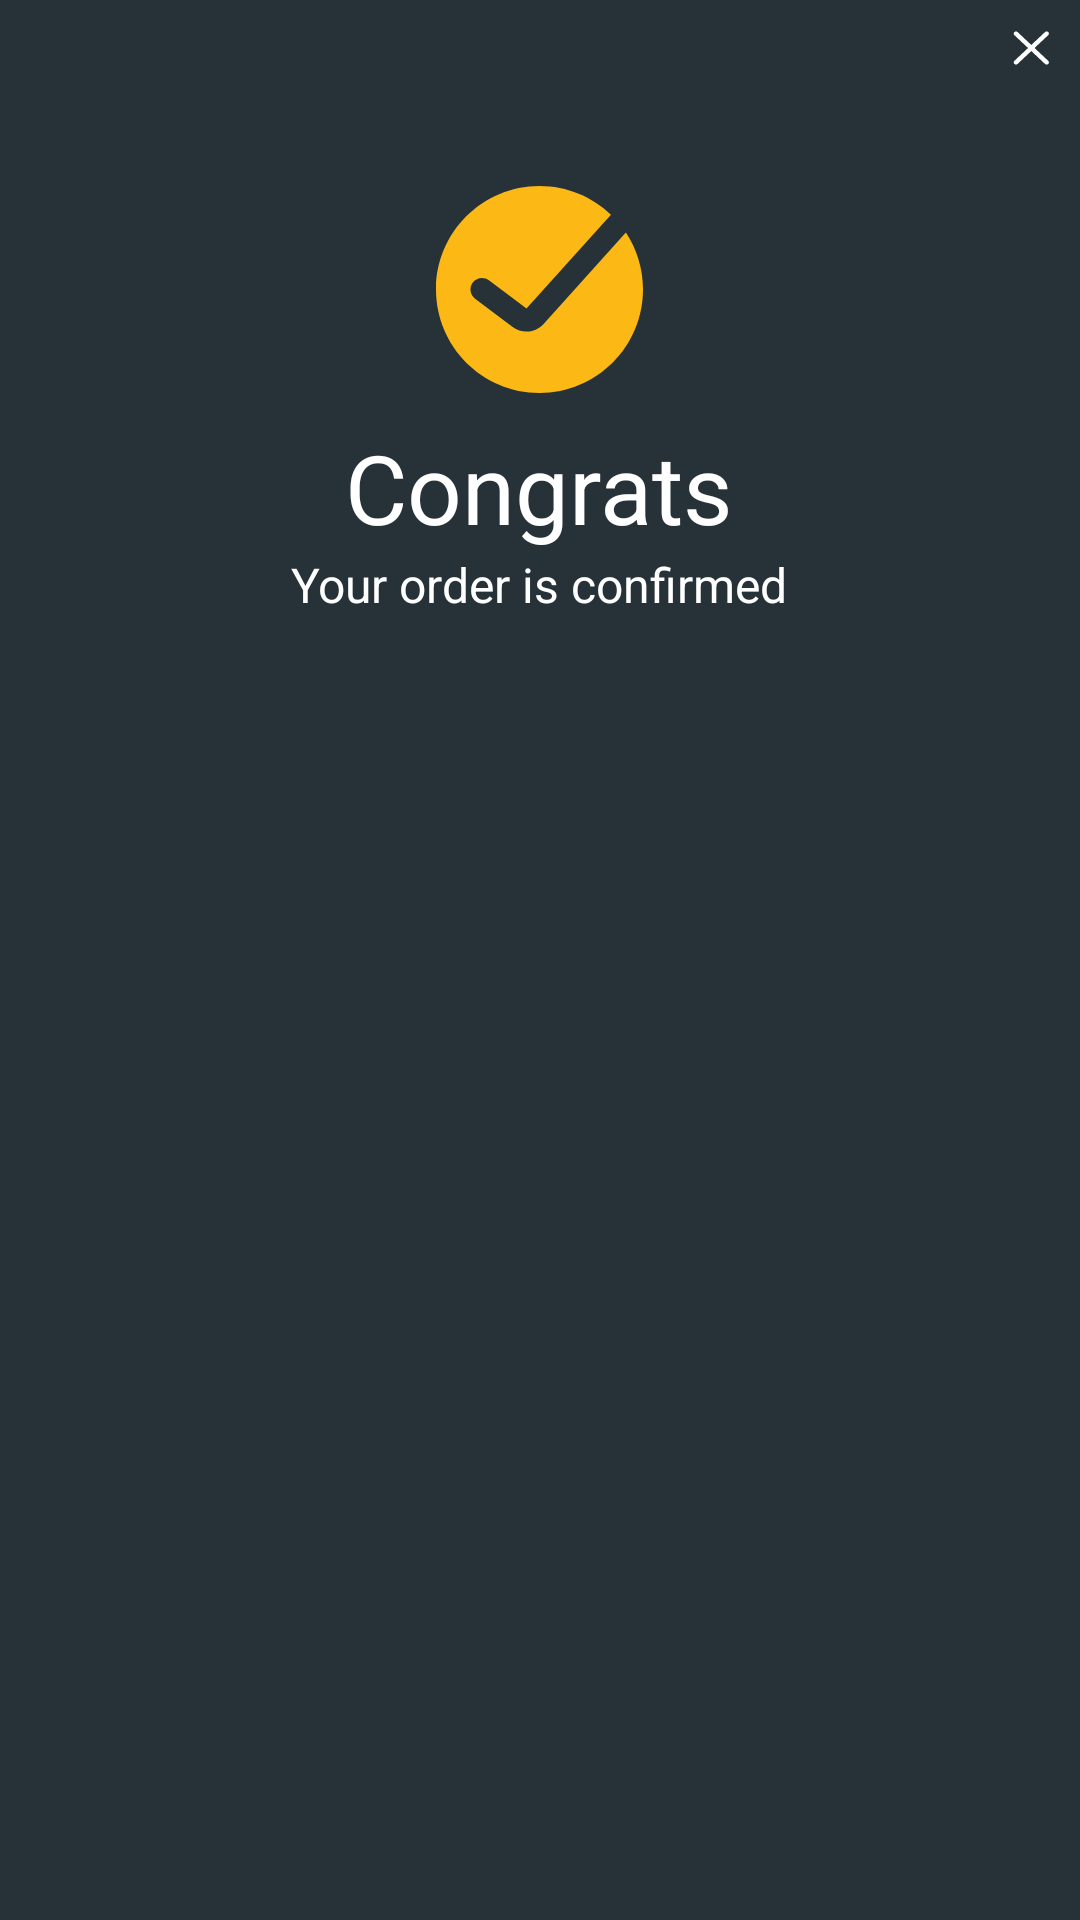

Where to tap for icons on this 1080px x 1920px app screen, as point (x, y):
close: point (1031, 48)
